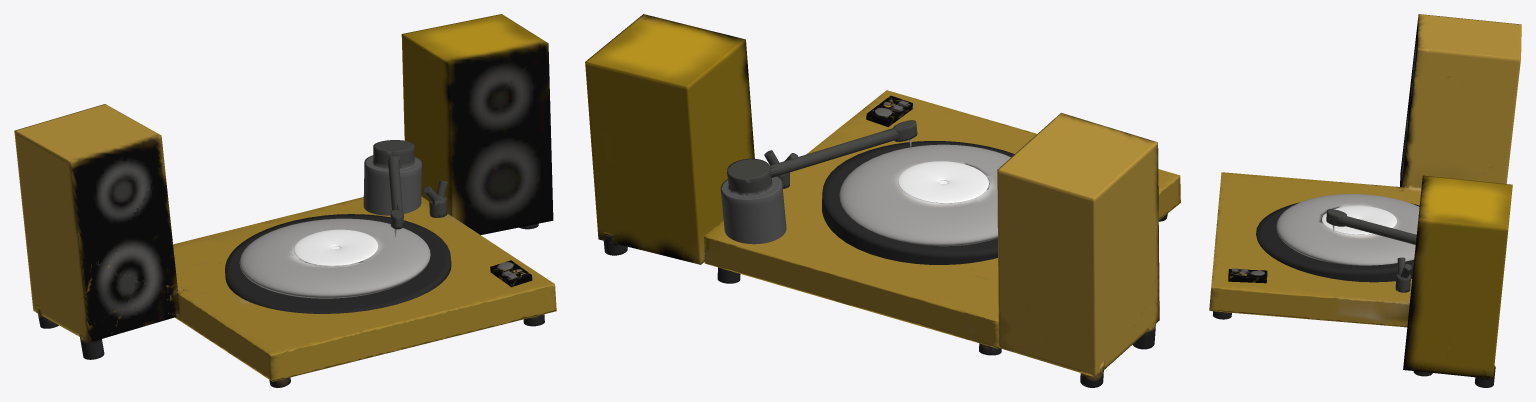
The model's file is 04-record-player.fbx.
3 renders of one model, left to right at view 1: azimuth 30°, elevation 25°; view 2: azimuth 150°, elevation 25°; view 3: azimuth 270°, elevation 25°, orthographic. The views are drawn at different scales.
Visible parts, largest first — view 1: 圆柱体_002.pm, 环形体_001.pm, 圆柱体_001.pm; view 2: 圆柱体_002.pm, 环形体_001.pm, 圆柱体_001.pm; view 3: 圆柱体_002.pm, 环形体_001.pm, 圆柱体_001.pm.
Part boxes in pixels (x1=…): 圆柱体_002.pm: x1=14, y1=14, x2=556, y2=387; 环形体_001.pm: x1=239, y1=218, x2=430, y2=298; 圆柱体_001.pm: x1=363, y1=140, x2=447, y2=237; 圆柱体_002.pm: x1=585, y1=14, x2=1180, y2=387; 环形体_001.pm: x1=839, y1=144, x2=1010, y2=246; 圆柱体_001.pm: x1=720, y1=120, x2=917, y2=244; 圆柱体_002.pm: x1=1209, y1=14, x2=1521, y2=387; 环形体_001.pm: x1=1276, y1=194, x2=1419, y2=265; 圆柱体_001.pm: x1=1326, y1=209, x2=1416, y2=292.
Bounding box in the file's own units: 182 × 73.53 × 115.
3 materials, 3 textured.
